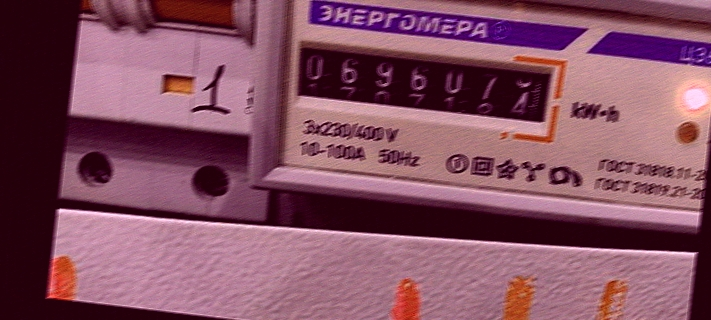0: (301, 52, 324, 84), (441, 65, 464, 97)
4: (506, 89, 528, 119)
6: (335, 55, 360, 87), (406, 63, 429, 93)
7: (476, 70, 496, 102)
9: (371, 60, 393, 91)
screen: (273, 22, 567, 145)
